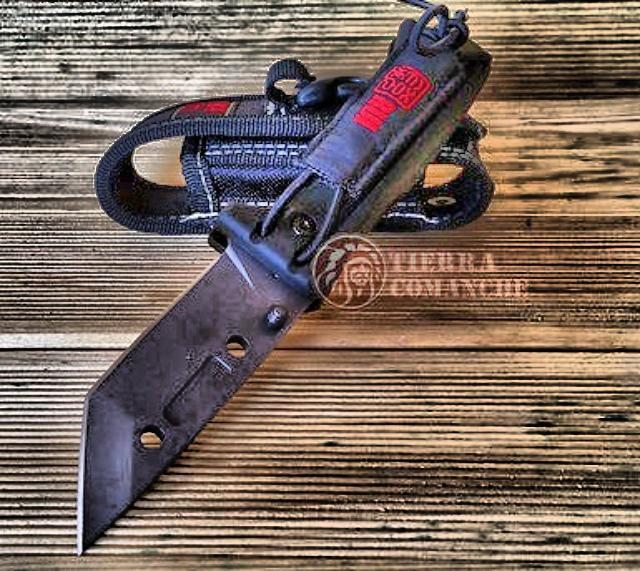knife: (70, 240, 300, 566)
